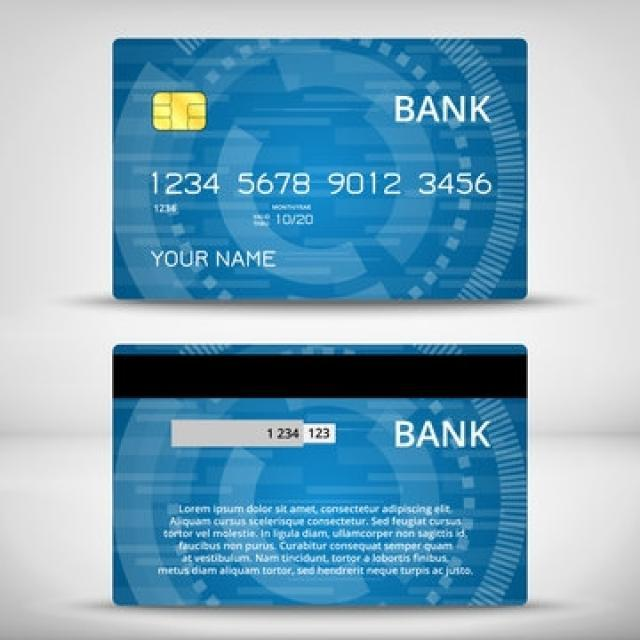payment_card: (110, 35, 529, 302), (110, 342, 529, 609)
